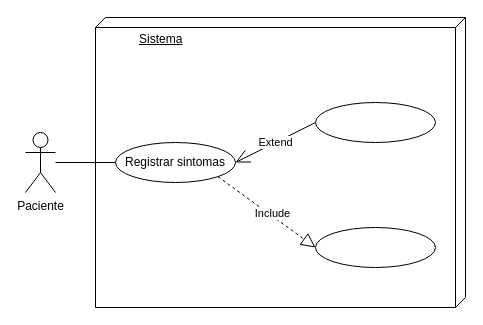
Some shapes in this 483 by 325 pixel diagram are drawn without their labels. Each missing label, with the box of its shape:
Almacenar registro: (314, 102, 436, 142)
Completar campos correctamente: (314, 226, 436, 268)
